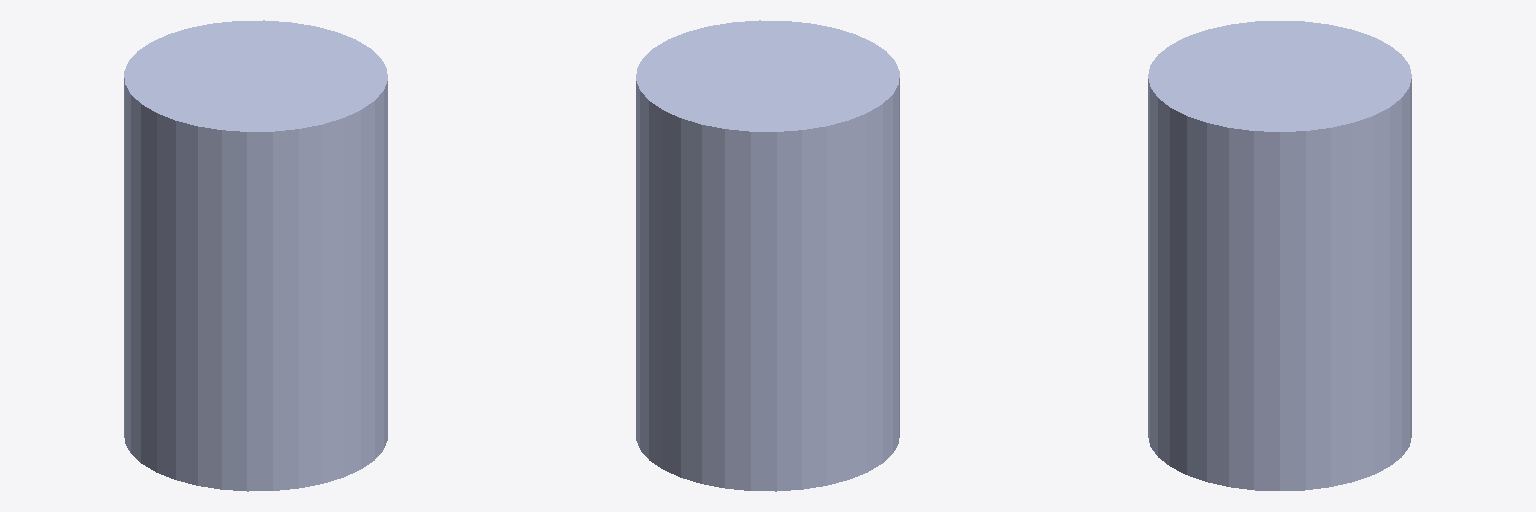
URDF robot description (obstacle1):
<?xml version="1.0" encoding="utf-8"?>
<!-- This URDF was automatically created by SolidWorks to URDF Exporter! Originally created by [author] ([email redacted]) 
     Commit Version: 1.6.0-4-g7f85cfe  Build Version: 1.6.7995.38578
     For more information, please see http://wiki.ros.org/sw_urdf_exporter -->
<robot
  name="obstacle1">
  <link
    name="cylinder">
    <inertial>
      <origin
        xyz="0 0.75 7.92431864905443E-18"
        rpy="0 0 0" />
      <mass
        value="1178.09724509617" />
      <inertia
        ixx="294.524311274043"
        ixy="-8.53738256280262E-31"
        ixz="0"
        iyy="147.262155637022"
        iyz="0"
        izz="294.524311274043" />
    </inertial>
    <visual>
      <origin
        xyz="0 0 0"
        rpy="0 0 0" />
      <geometry>
        <mesh
          filename="package://obstacle1/meshes/cylinder.STL" />
      </geometry>
      <material
        name="">
        <color
          rgba="0.792156862745098 0.819607843137255 0.933333333333333 1" />
      </material>
    </visual>
    <collision>
      <origin
        xyz="0 0 0"
        rpy="0 0 0" />
      <geometry>
        <mesh
          filename="package://obstacle1/meshes/cylinder.STL" />
      </geometry>
    </collision>
  </link>
</robot>

--- What the picture shows (computed from the rendered views, not written in the file) ---
Views: 3 orthographic renders of the robot side by side, from view 1: azimuth 30°, elevation 25°; view 2: azimuth 150°, elevation 25°; view 3: azimuth 270°, elevation 25°.
Model obstacle1 with 1 links and 0 joints (none), rooted at cylinder, posed every joint at zero.
Links seen in each view (by area): view 1: cylinder; view 2: cylinder; view 3: cylinder.
Link boxes in pixels (<box>): cylinder: <box>124,20,387,491</box>; cylinder: <box>636,20,899,491</box>; cylinder: <box>1148,21,1411,490</box>.
Size in the robot's own frame: 1 by 1 by 1.5 metres.
1 mesh visuals loaded from 1 distinct referenced files (1 binary STL).